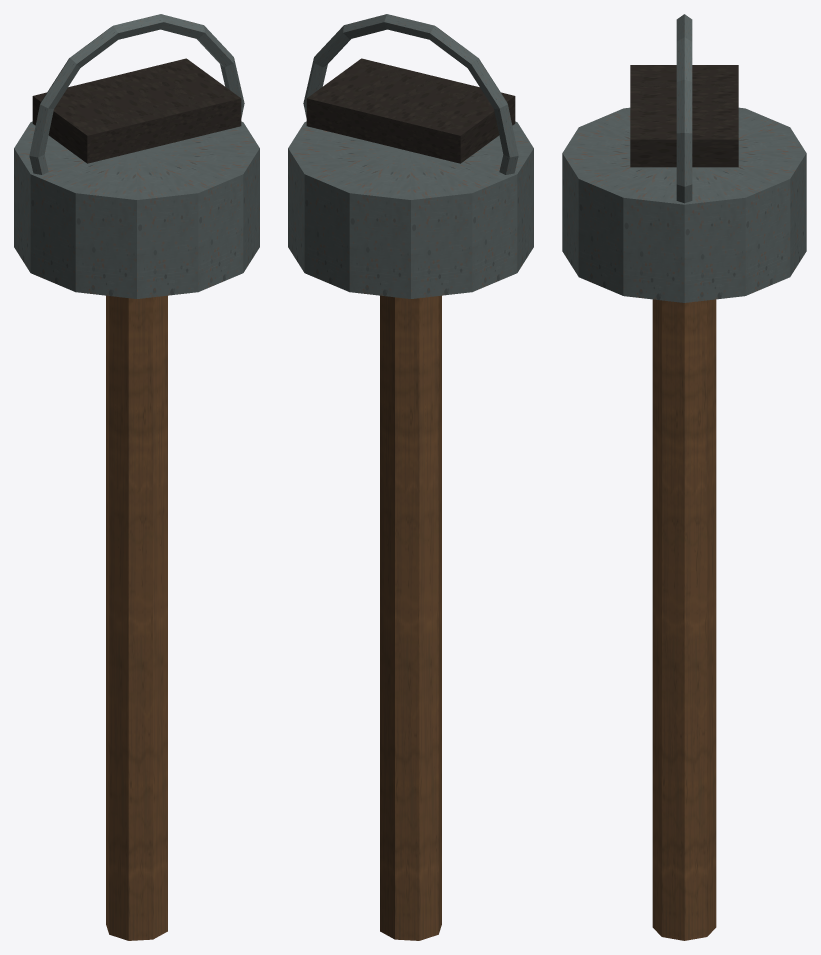
Rendered from en-021_torch_stand__unlit.obj.
3 views of the same model, side by side, from view 1: azimuth 30°, elevation 25°; view 2: azimuth 150°, elevation 25°; view 3: azimuth 270°, elevation 25° (orthographic).
Parts seen in each view (by area): view 1: en-021_torch_stand__unlit; view 2: en-021_torch_stand__unlit; view 3: en-021_torch_stand__unlit.
Part boxes in pixels (x1,y1,x2,y2): en-021_torch_stand__unlit: [14, 14, 259, 940]; en-021_torch_stand__unlit: [288, 14, 533, 940]; en-021_torch_stand__unlit: [562, 14, 806, 940].
Bounding box in the file's own units: 0.364 × 1.47 × 0.36.
Materials: 3 (3 with a texture image).
